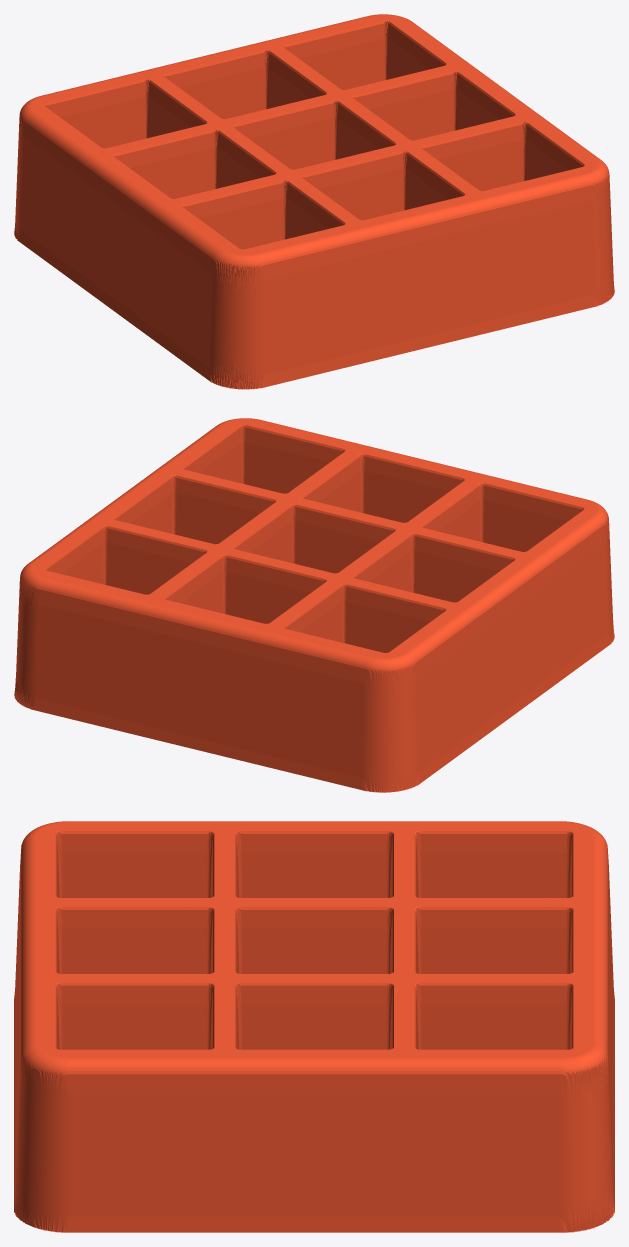
Rendered from mold.glb.
3 views of the same model, one above another, from view 1: azimuth 30°, elevation 25°; view 2: azimuth 150°, elevation 25°; view 3: azimuth 270°, elevation 25° (orthographic). The views are drawn at different scales.
Visible parts, largest first — view 1: geometry_0; view 2: geometry_0; view 3: geometry_0.
Boxes of the visible parts, x1,y1,x2,y2 form: geometry_0: [14, 14, 614, 389]; geometry_0: [14, 418, 614, 792]; geometry_0: [14, 821, 614, 1232].
Bounding box in the file's own units: 0.0984 × 0.0299 × 0.0984.
